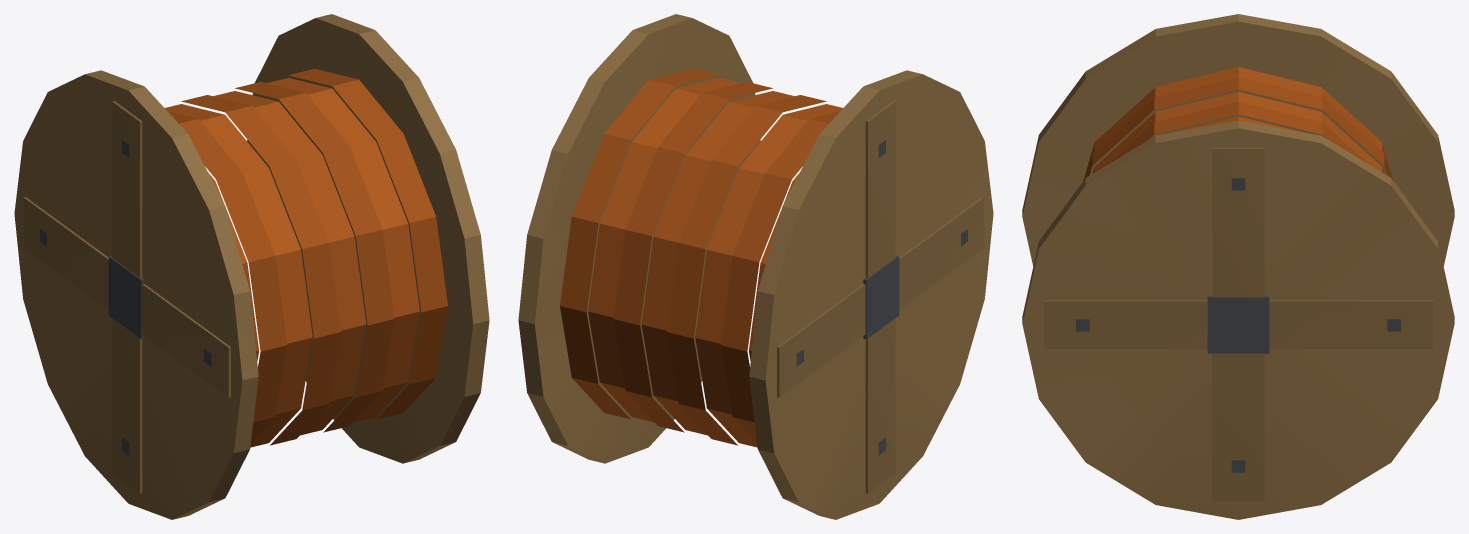
File: spool.cable.orange.glb
The picture shows the model from 3 angles, left to right: view 1: azimuth 30°, elevation 25°; view 2: azimuth 150°, elevation 25°; view 3: azimuth 270°, elevation 25°; orthographic projection. The views are drawn at different scales.
Parts seen in each view (by area): view 1: spool_cable_orange; view 2: spool_cable_orange; view 3: spool_cable_orange.
Part boxes in pixels (x1,y1,x2,y2): spool_cable_orange: [14, 14, 489, 519]; spool_cable_orange: [518, 14, 993, 519]; spool_cable_orange: [1022, 14, 1454, 519].
Size of what is drawn, in the model's own units: 0.9 by 1.4 by 1.4.
